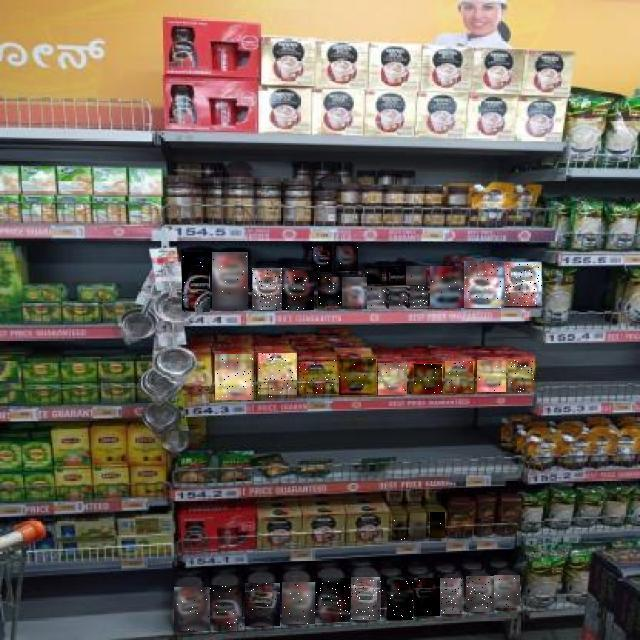Coffee: (212, 253, 248, 311), (464, 261, 504, 308), (216, 354, 256, 400), (258, 354, 297, 398), (182, 253, 210, 313), (504, 262, 542, 306), (315, 578, 351, 622), (175, 587, 211, 631), (245, 583, 280, 626), (430, 267, 464, 309), (210, 586, 242, 630), (282, 582, 315, 624), (352, 577, 384, 620), (283, 268, 315, 310), (339, 359, 376, 395), (298, 360, 337, 394), (252, 268, 282, 310), (387, 580, 413, 620), (466, 576, 494, 612), (414, 579, 440, 617), (440, 578, 466, 614), (477, 360, 506, 392), (378, 363, 407, 395), (445, 361, 473, 393), (494, 576, 520, 610), (509, 359, 535, 392), (415, 364, 443, 394), (342, 278, 367, 308), (318, 278, 342, 308), (336, 246, 358, 271), (313, 246, 333, 272), (368, 288, 388, 310), (411, 513, 427, 539), (392, 515, 408, 541), (410, 287, 428, 309), (390, 288, 408, 310), (430, 513, 445, 539), (406, 266, 426, 285), (386, 266, 406, 285), (366, 267, 384, 285)
